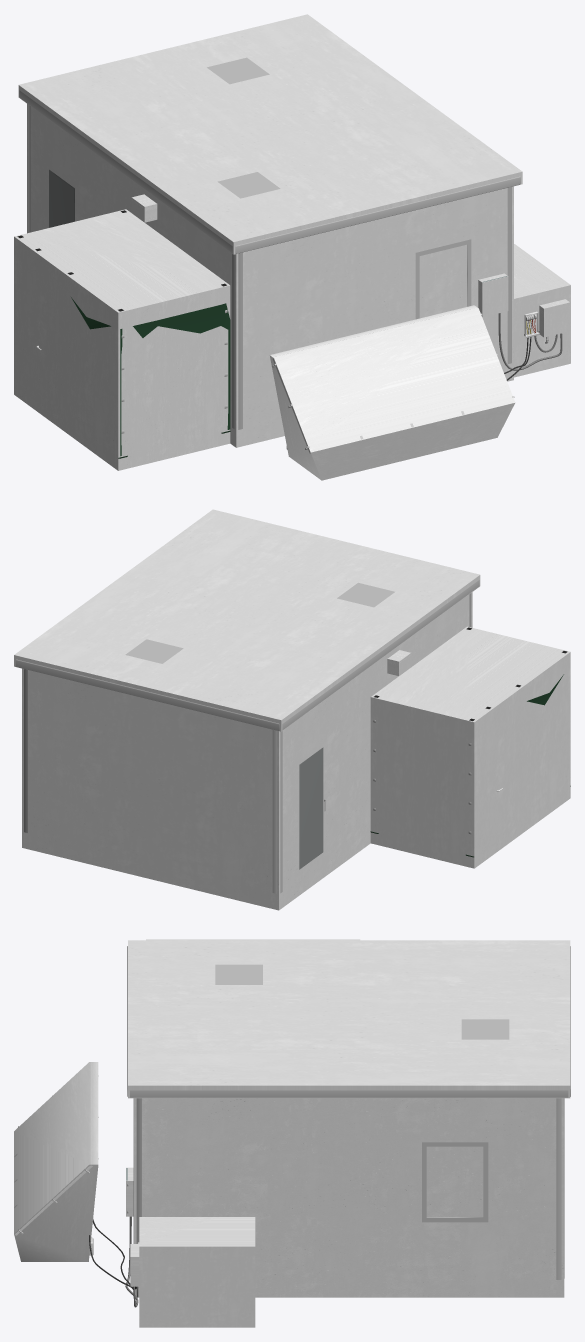
Rendered from si_office_bld.DAE.
The picture shows the model from 3 angles, top to bottom: view 1: azimuth 30°, elevation 25°; view 2: azimuth 150°, elevation 25°; view 3: azimuth 270°, elevation 25°; orthographic projection. The views are drawn at different scales.
Visible parts, largest first — view 1: Colmesh-1, si_office_bld600; view 2: Colmesh-1, si_office_bld600; view 3: Colmesh-1, si_office_bld600.
Part boxes in pixels (box(x1,y1,x2,y2)): Colmesh-1: box(14, 14, 570, 480); si_office_bld600: box(17, 57, 562, 458); Colmesh-1: box(14, 509, 570, 910); si_office_bld600: box(15, 580, 570, 893); Colmesh-1: box(14, 939, 570, 1327); si_office_bld600: box(14, 946, 570, 1307).
Size of the model in its own units: 753 by 778 by 332.
